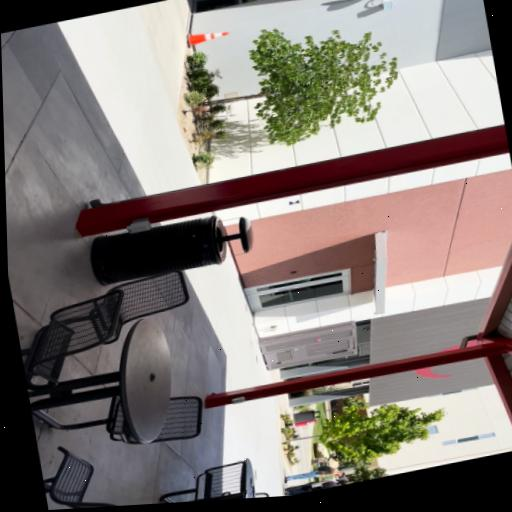target6: (289, 199, 301, 206)
